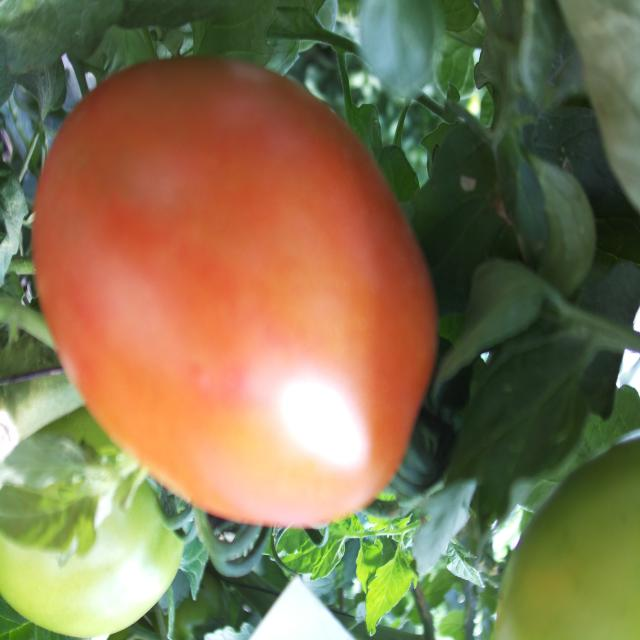kirmizi: (6, 0, 453, 518)
